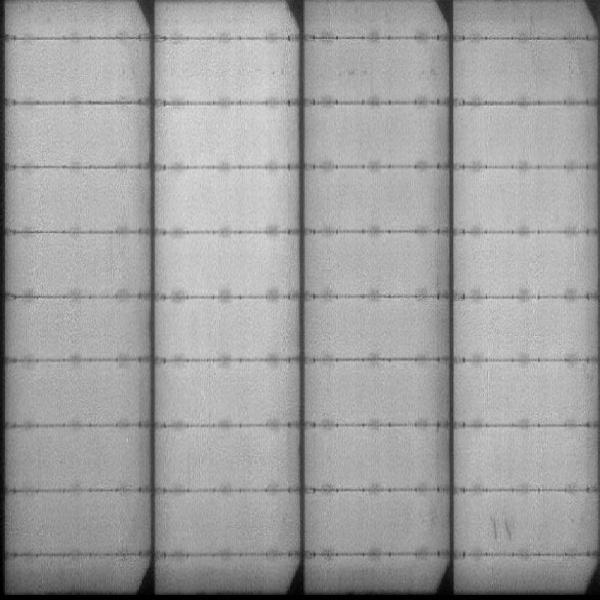scratch: (485, 518, 517, 542)
